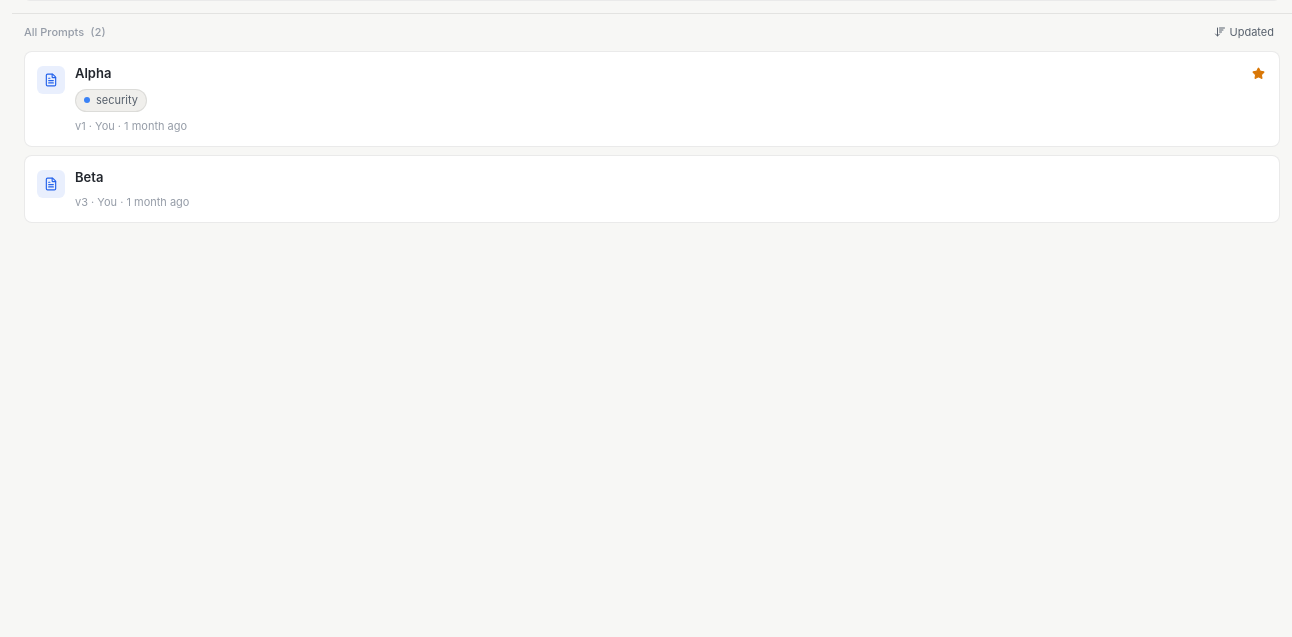
Test: PromptListPane tag filtering › opens the library filtered to a prompt tag when its chip is clicked
Step 1. Click the button with aria-label "Filter by tag security" → (111, 100), box [75,89,147,112]
(page scrolled)
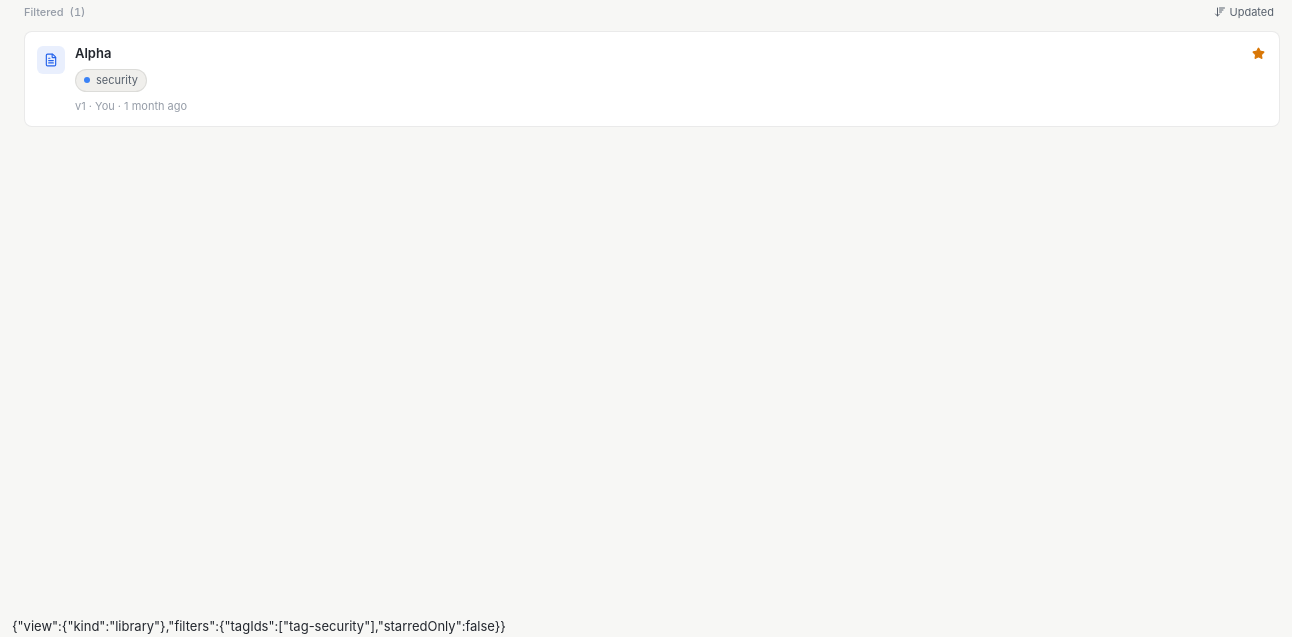
Expected: the button "Beta" is gone
